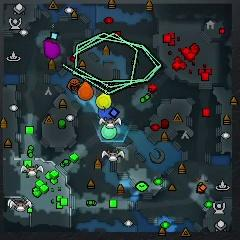p1: (98, 107, 115, 121)
p2: (101, 119, 120, 141)
p3: (43, 39, 61, 58)
p4: (96, 91, 112, 110)
p5: (79, 81, 94, 101)
